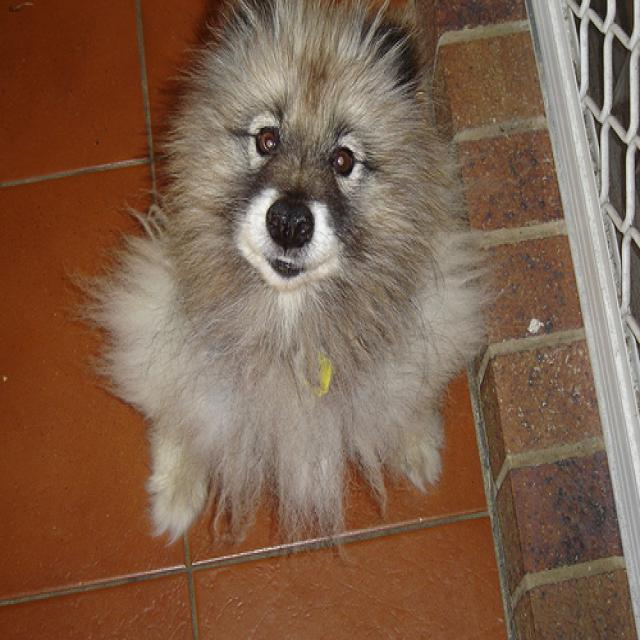dog-keeshond: (63, 2, 495, 556)
